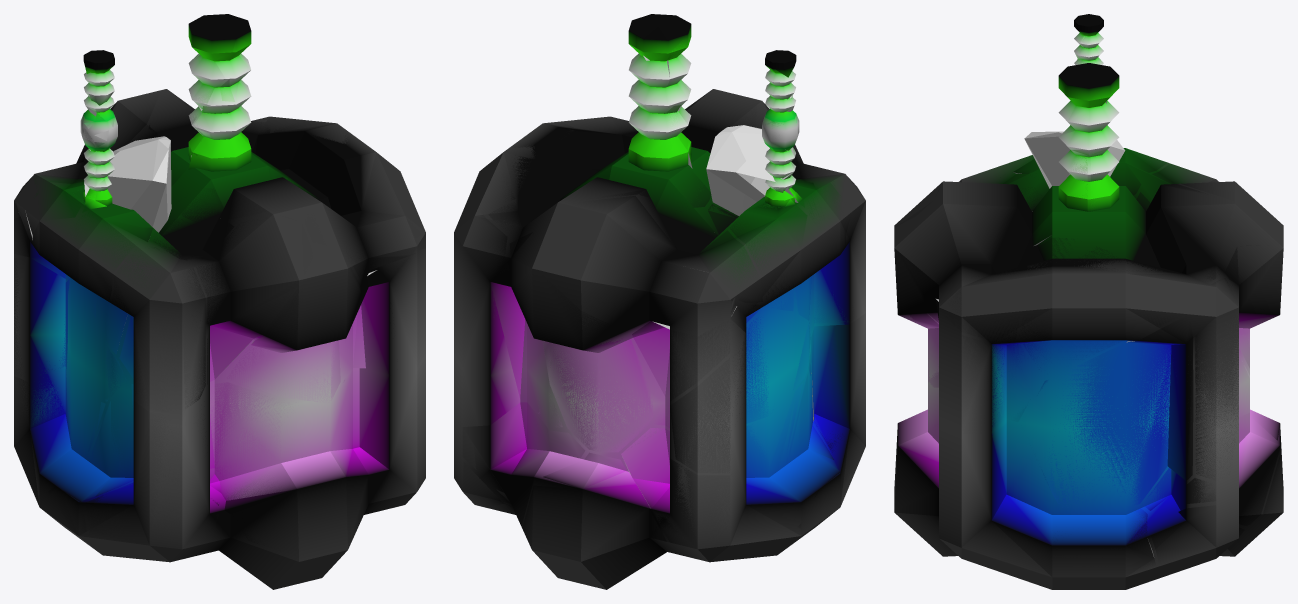
Rendered from Broken_spaceCube.fbx.
3 views of the same model, side by side, from view 1: azimuth 30°, elevation 25°; view 2: azimuth 150°, elevation 25°; view 3: azimuth 270°, elevation 25° (orthographic). The views are drawn at different scales.
Parts seen in each view (by area): view 1: SpaceCube01, SpaceCube01_cell.046, SpaceCube01_cell.027, SpaceCube01_cell.033, SpaceCube01_cell.041, SpaceCube01_cell.023, SpaceCube01_cell.047, SpaceCube01_cell.009, SpaceCube01_cell.040, SpaceCube01_cell.031, SpaceCube01_cell.004, SpaceCube01_cell.007 (+11 smaller); view 2: SpaceCube01, SpaceCube01_cell.013, SpaceCube01_cell.009, SpaceCube01_cell.043, SpaceCube01_cell.030, SpaceCube01_cell.038, SpaceCube01_cell.015, SpaceCube01_cell.033, SpaceCube01_cell.019, SpaceCube01_cell.014, SpaceCube01_cell.011, SpaceCube01_cell.012 (+7 smaller); view 3: SpaceCube01, SpaceCube01_cell.018, SpaceCube01_cell.031, SpaceCube01_cell.005, SpaceCube01_cell.012, SpaceCube01_cell.049, SpaceCube01_cell.039, SpaceCube01_cell.044, SpaceCube01_cell.019, SpaceCube01_cell.021, SpaceCube01_cell.028, SpaceCube01_cell.040 (+8 smaller).
Boxes of the visible parts, x1=… form: SpaceCube01: x1=14, y1=14, x2=425, y2=589; SpaceCube01_cell.046: x1=111, y1=247, x2=205, y2=413; SpaceCube01_cell.027: x1=227, y1=263, x2=361, y2=402; SpaceCube01_cell.033: x1=85, y1=384, x2=219, y2=561; SpaceCube01_cell.041: x1=184, y1=382, x2=350, y2=557; SpaceCube01_cell.023: x1=195, y1=214, x2=313, y2=384; SpaceCube01_cell.047: x1=59, y1=211, x2=152, y2=354; SpaceCube01_cell.009: x1=14, y1=369, x2=105, y2=493; SpaceCube01_cell.040: x1=107, y1=136, x2=171, y2=232; SpaceCube01_cell.031: x1=269, y1=118, x2=404, y2=214; SpaceCube01_cell.004: x1=179, y1=105, x2=285, y2=201; SpaceCube01_cell.007: x1=59, y1=401, x2=133, y2=555; SpaceCube01: x1=454, y1=14, x2=865, y2=588; SpaceCube01_cell.013: x1=509, y1=232, x2=655, y2=452; SpaceCube01_cell.009: x1=621, y1=383, x2=812, y2=562; SpaceCube01_cell.043: x1=522, y1=452, x2=666, y2=589; SpaceCube01_cell.030: x1=653, y1=317, x2=810, y2=473; SpaceCube01_cell.038: x1=535, y1=205, x2=735, y2=330; SpaceCube01_cell.015: x1=565, y1=196, x2=762, y2=302; SpaceCube01_cell.033: x1=811, y1=313, x2=865, y2=488; SpaceCube01_cell.019: x1=462, y1=402, x2=585, y2=526; SpaceCube01_cell.014: x1=708, y1=187, x2=819, y2=311; SpaceCube01_cell.011: x1=632, y1=304, x2=763, y2=401; SpaceCube01_cell.012: x1=488, y1=105, x2=711, y2=233; SpaceCube01: x1=894, y1=14, x2=1283, y2=589; SpaceCube01_cell.018: x1=1021, y1=314, x2=1193, y2=507; SpaceCube01_cell.031: x1=1018, y1=237, x2=1192, y2=369; SpaceCube01_cell.005: x1=1195, y1=278, x2=1249, y2=480; SpaceCube01_cell.012: x1=1090, y1=150, x2=1221, y2=281; SpaceCube01_cell.049: x1=927, y1=299, x2=1030, y2=433; SpaceCube01_cell.039: x1=1052, y1=508, x2=1159, y2=589; SpaceCube01_cell.044: x1=1150, y1=505, x2=1244, y2=574; SpaceCube01_cell.019: x1=1145, y1=412, x2=1279, y2=526; SpaceCube01_cell.021: x1=944, y1=232, x2=1024, y2=342; SpaceCube01_cell.028: x1=945, y1=423, x2=1036, y2=573; SpaceCube01_cell.040: x1=1024, y1=131, x2=1125, y2=188.
Bounding box in the file's own units: 23.29 × 34.57 × 25.97.
